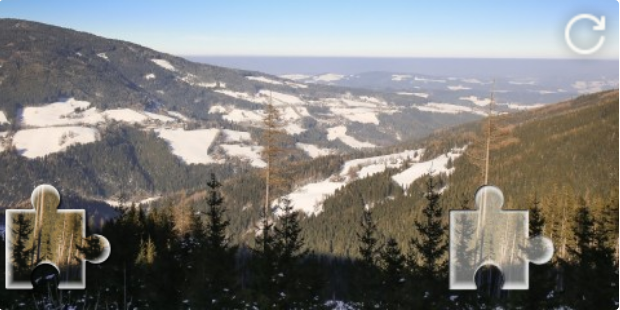target: (450, 185, 553, 289)
